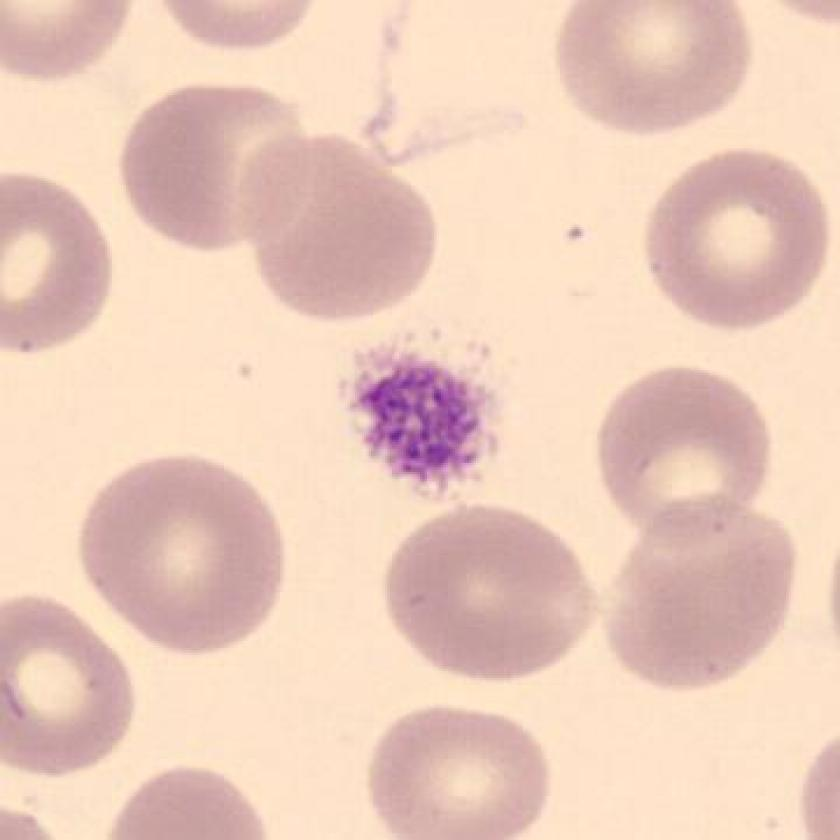platelets: (340, 330, 508, 501)
